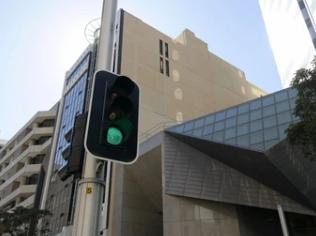green_light: (85, 70, 141, 164)
